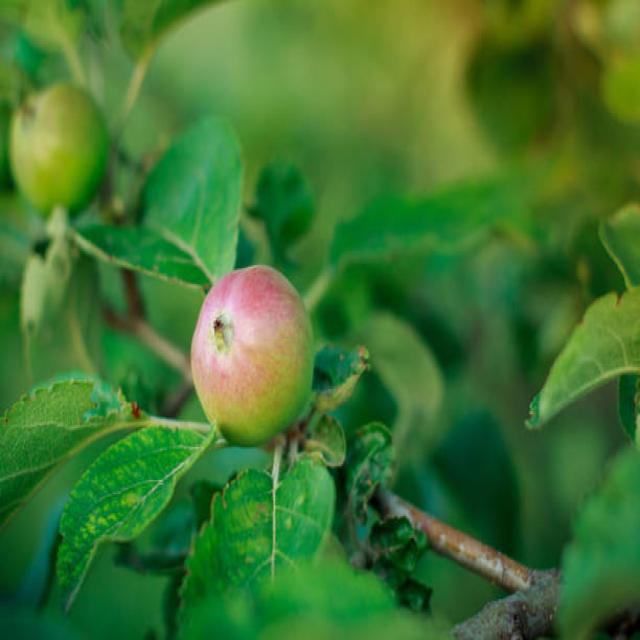Unripe: (190, 263, 315, 448)
